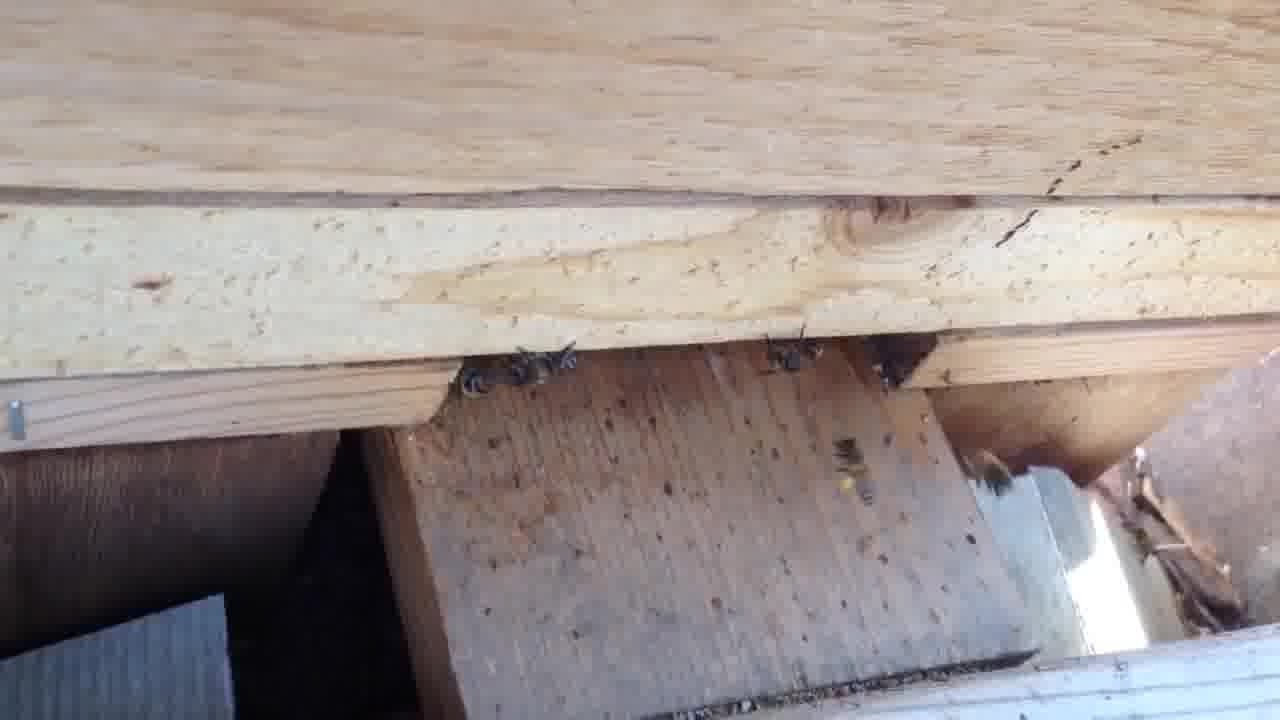pollen: (826, 436, 892, 511)
